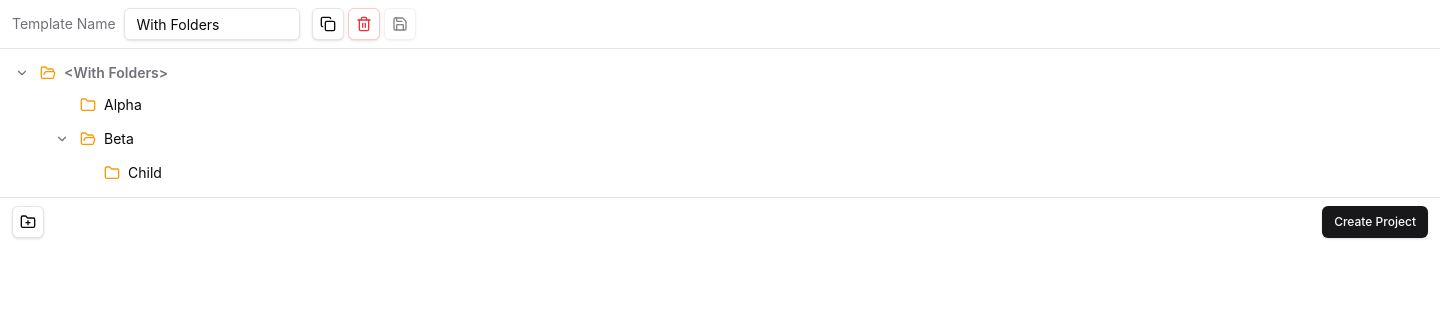
TemplateEditor: description panel › enables save button when description is added
Expected: the button titled "Save template" is disabled, [384,8,416,40]
Click the first folder to select it
Click the button "Alpha" at {"x": 111, "y": 104}, box [80,96,142,113]
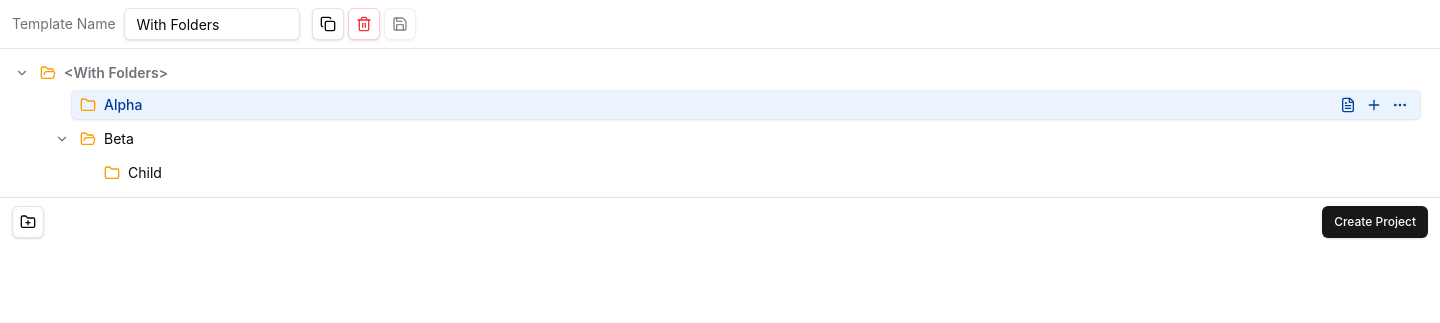
Click the "Edit description" inline button
Click the button titled "Edit description" at {"x": 1348, "y": 105}, box [1336,93,1360,117]
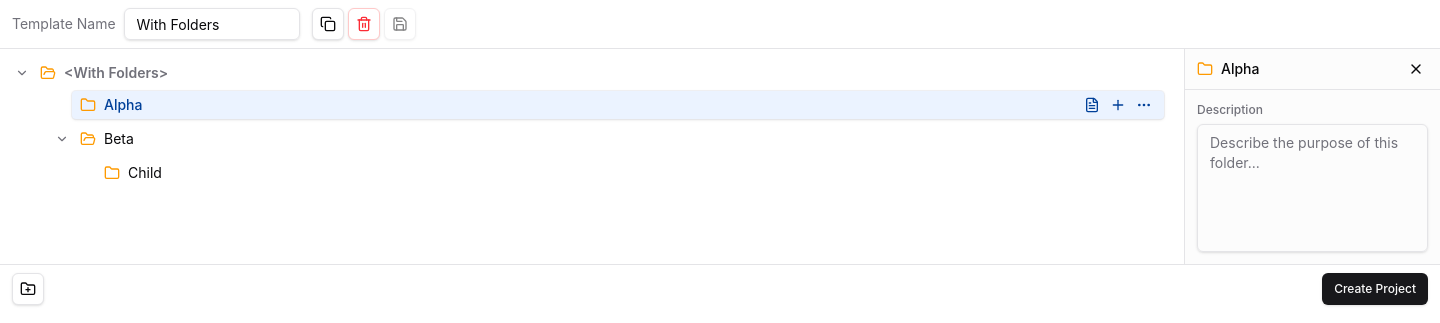
Result: the text "Description" is shown at [1197,102,1263,117]
Type a description
Type "Test description" into the text box with placeholder "Describe the purpose of this folder..." at {"x": 1312, "y": 188}, box [1197,124,1428,252]
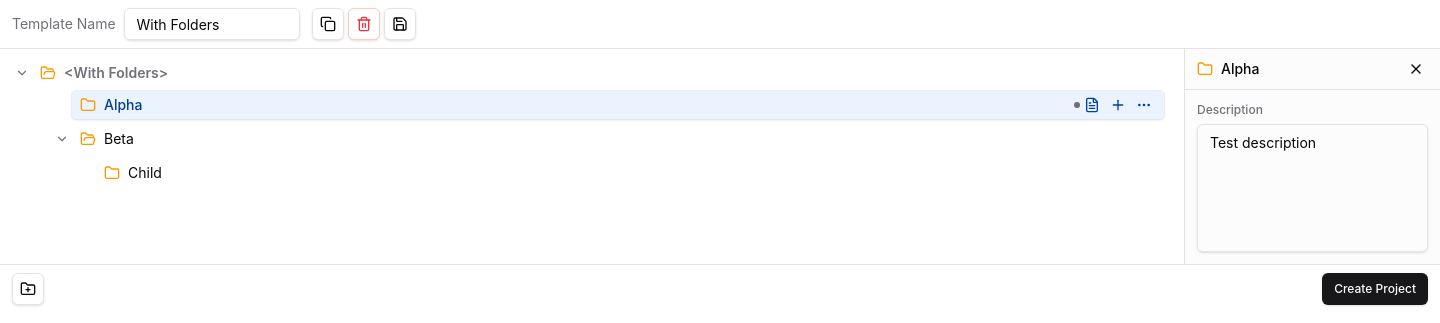
Result: the button titled "Save template" is enabled at [384,8,416,40]
